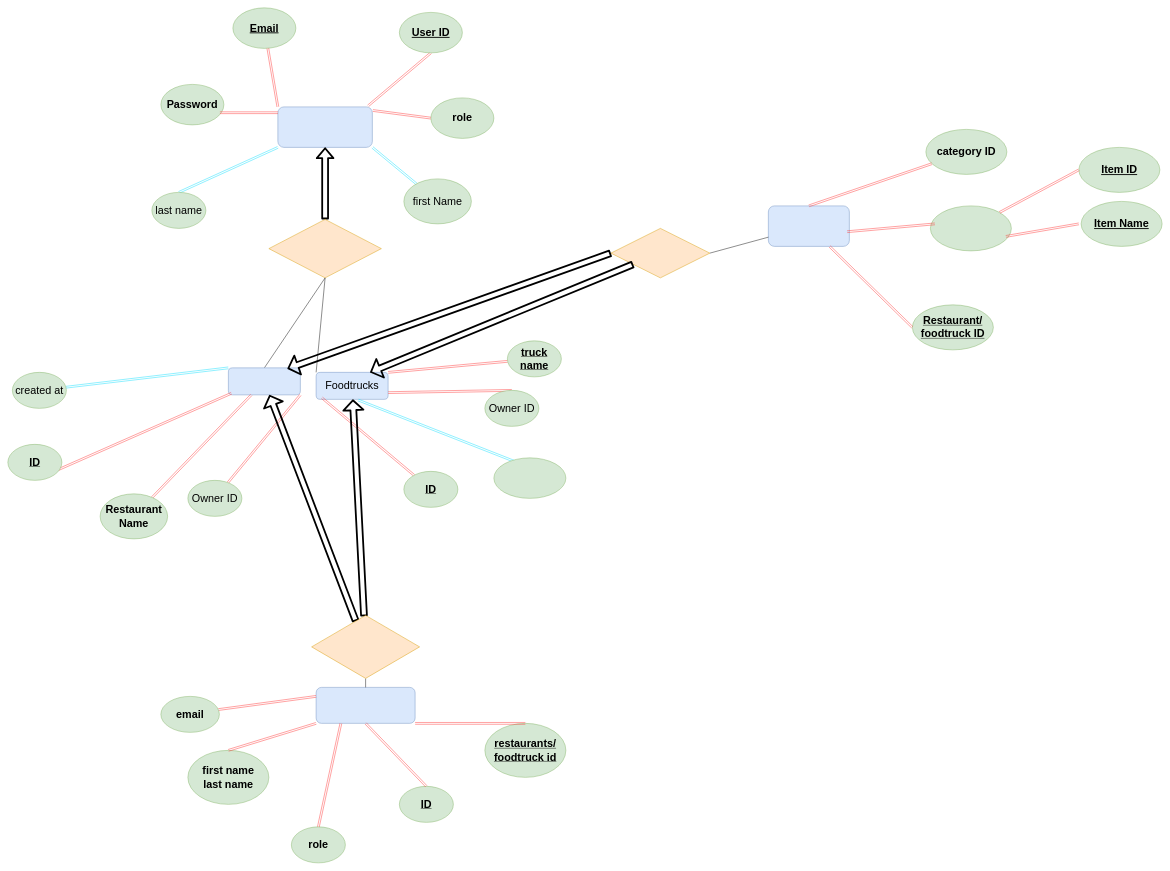
The diagram is 1170 pixels wide and 871 high, and some of its shapes have lost their labels. Each missing label, with the centre of its shape:
"category name" belongs at point 970,228.
"Employees" belongs at point 365,705.
"Inventory Categories" belongs at point 808,225.
"Manages/Owns" belongs at point 324,248.
"Organizes" belongs at point 660,253.
"restaurant id" belongs at point 529,477.
"Restaurants" belongs at point 264,381.
"User" belongs at point 324,126.
"Works at" belongs at point 365,646.
